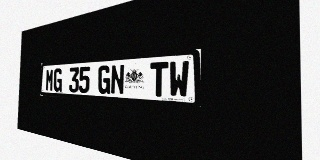3: (69, 67, 79, 93)
5: (79, 66, 90, 93)
G: (98, 65, 111, 94), (53, 68, 62, 92)
M: (45, 69, 54, 91)
N: (110, 64, 125, 95)
T: (150, 62, 168, 97)
W: (169, 60, 189, 98)
